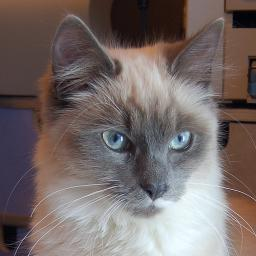catnose: (140, 180, 168, 202)
